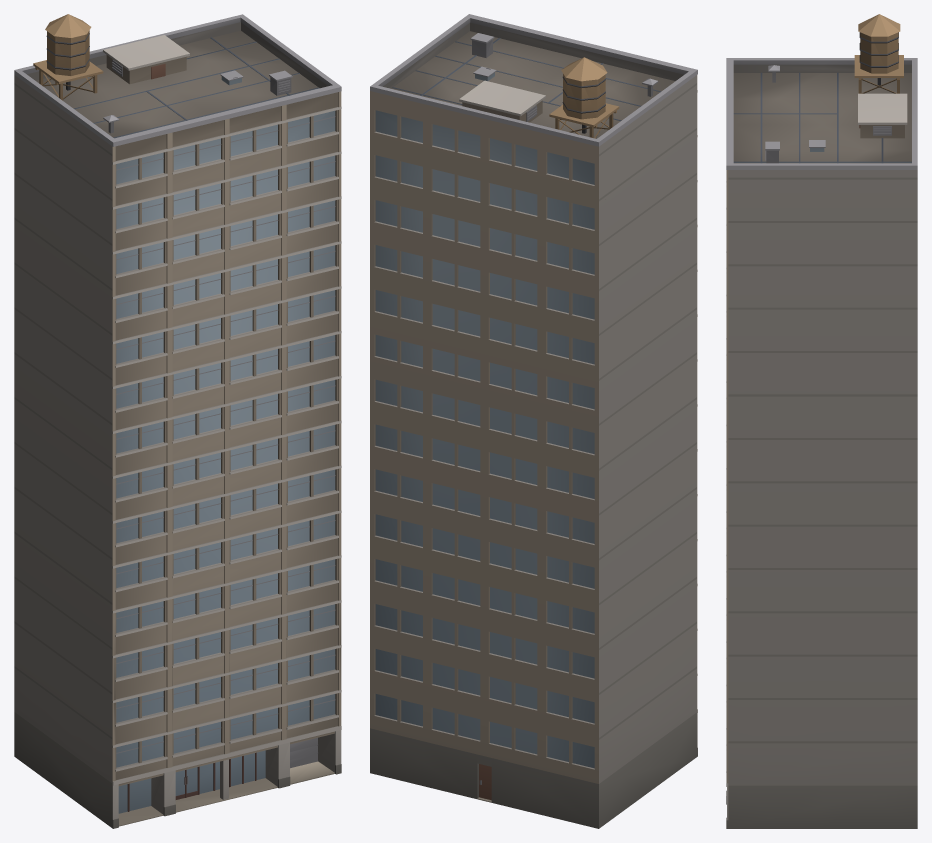
The model's file is slab.glb.
3 renders of one model, left to right at view 1: azimuth 30°, elevation 25°; view 2: azimuth 150°, elevation 25°; view 3: azimuth 270°, elevation 25°, orthographic. The views are drawn at different scales.
Parts seen in each view (by area): view 1: slab.001; view 2: slab.001; view 3: slab.001.
Part boxes in pixels (x1,y1,x2,y2): slab.001: [14, 14, 341, 828]; slab.001: [370, 14, 697, 828]; slab.001: [726, 14, 917, 828].
Size of the model in its own units: 16 by 50.06 by 12.
